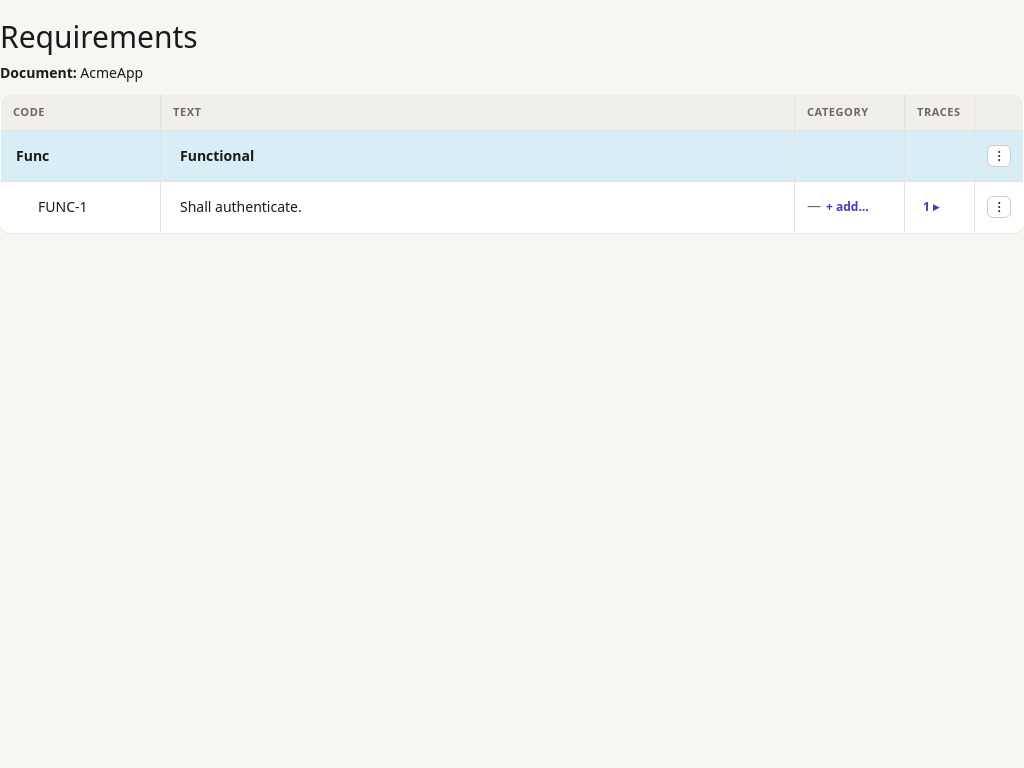
Test: SRSTable show-tests + info › opens the info modal from the menu
Click the button named "Row actions" at (999, 207), box [987,196,1011,218]
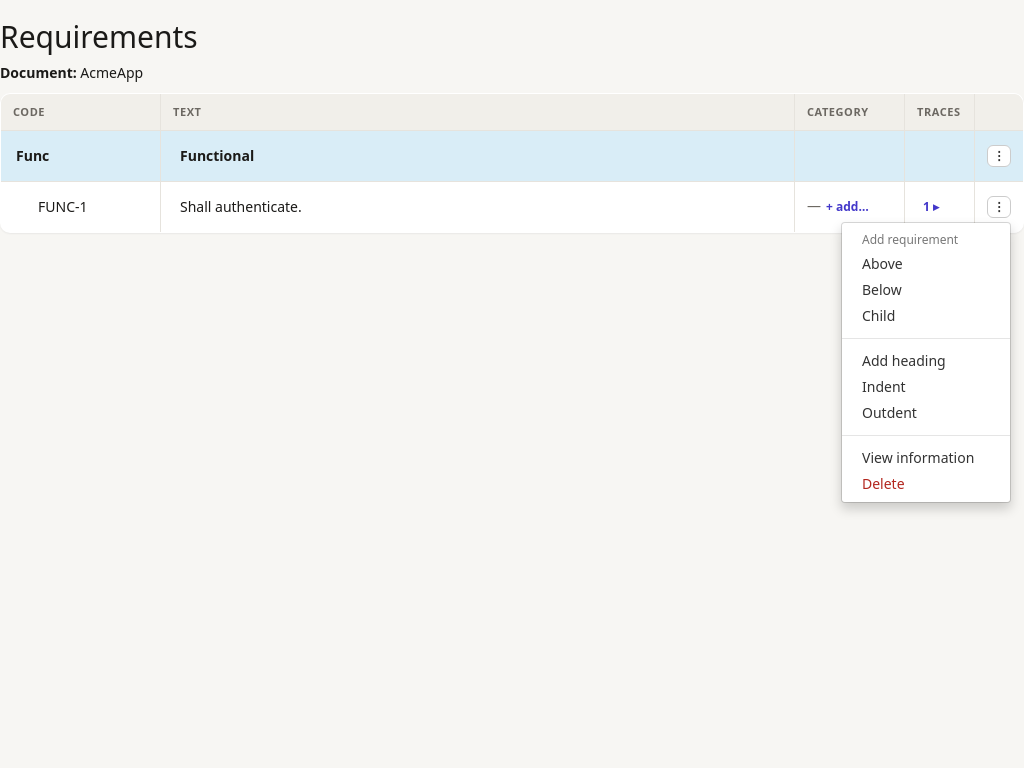
Click the link "View information" at (918, 458), box [862,448,974,467]
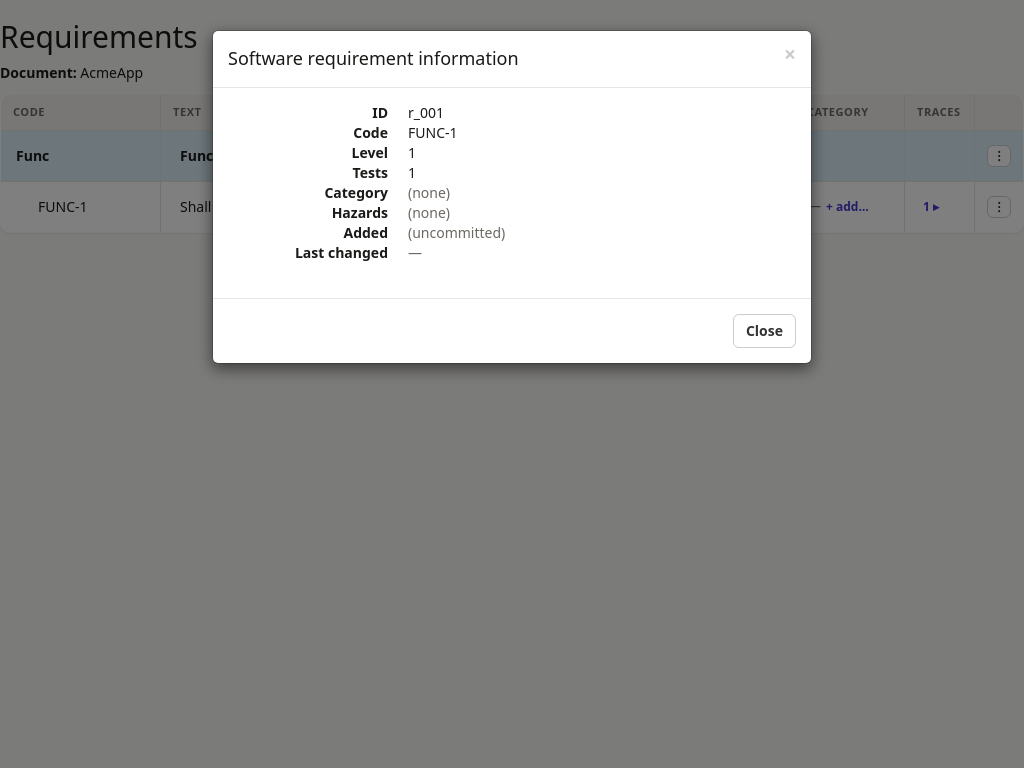
Check: the text "r_001" is shown, box [408,103,444,122]
